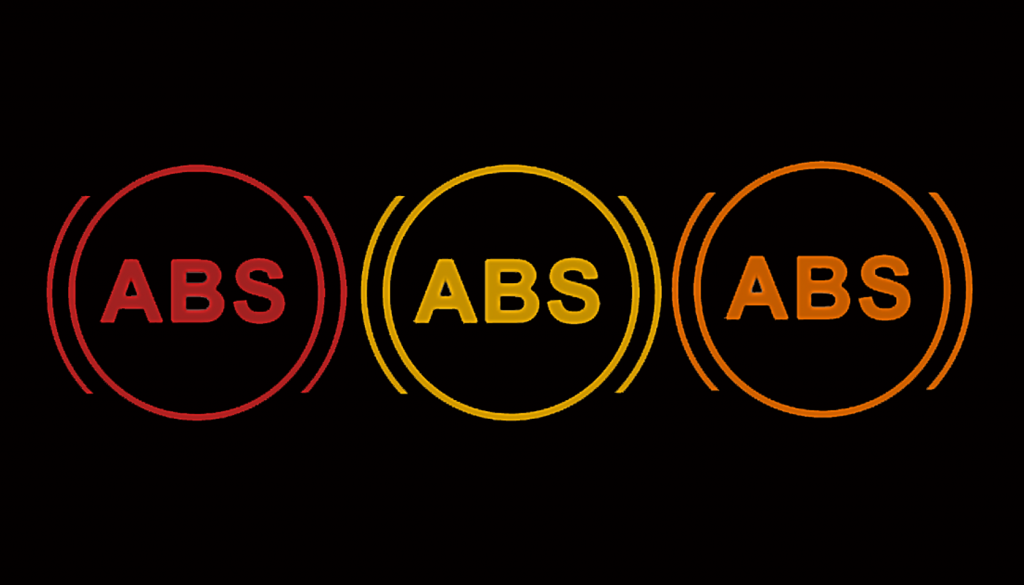ABS: (355, 156, 667, 431)
